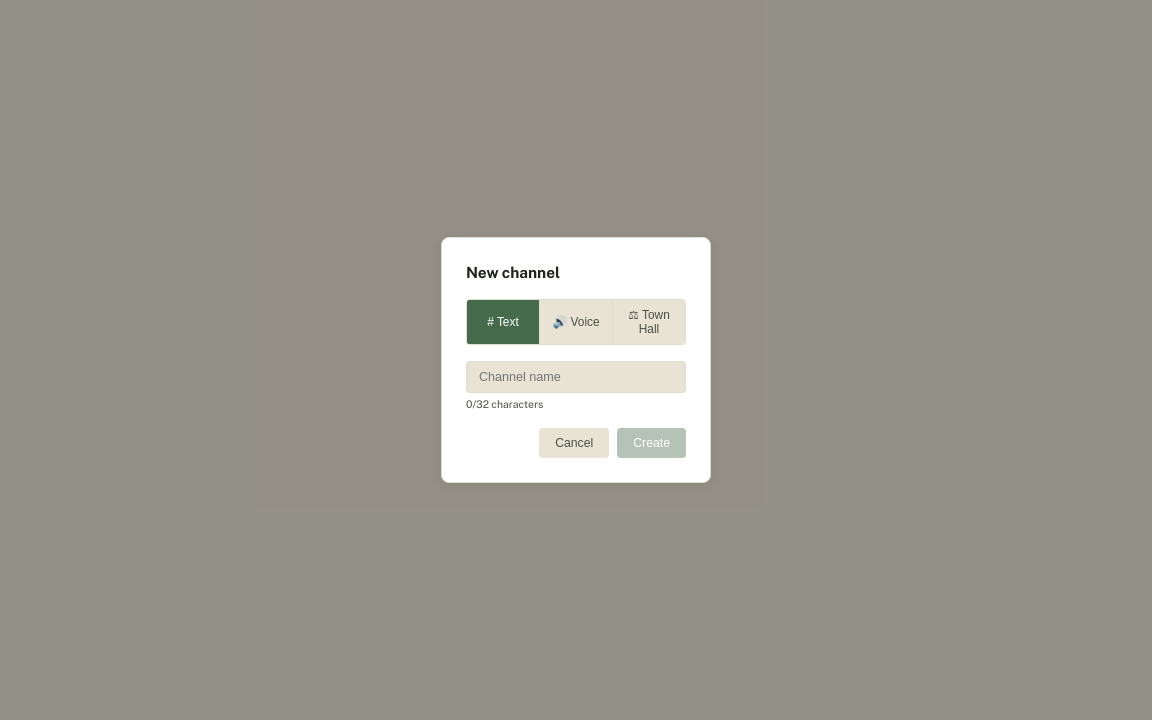
CreateChannelDialog › Create button enabled when name has content
Type "general" into the field with placeholder "Channel name" at (576, 377), box left=466, top=361, right=686, bottom=393
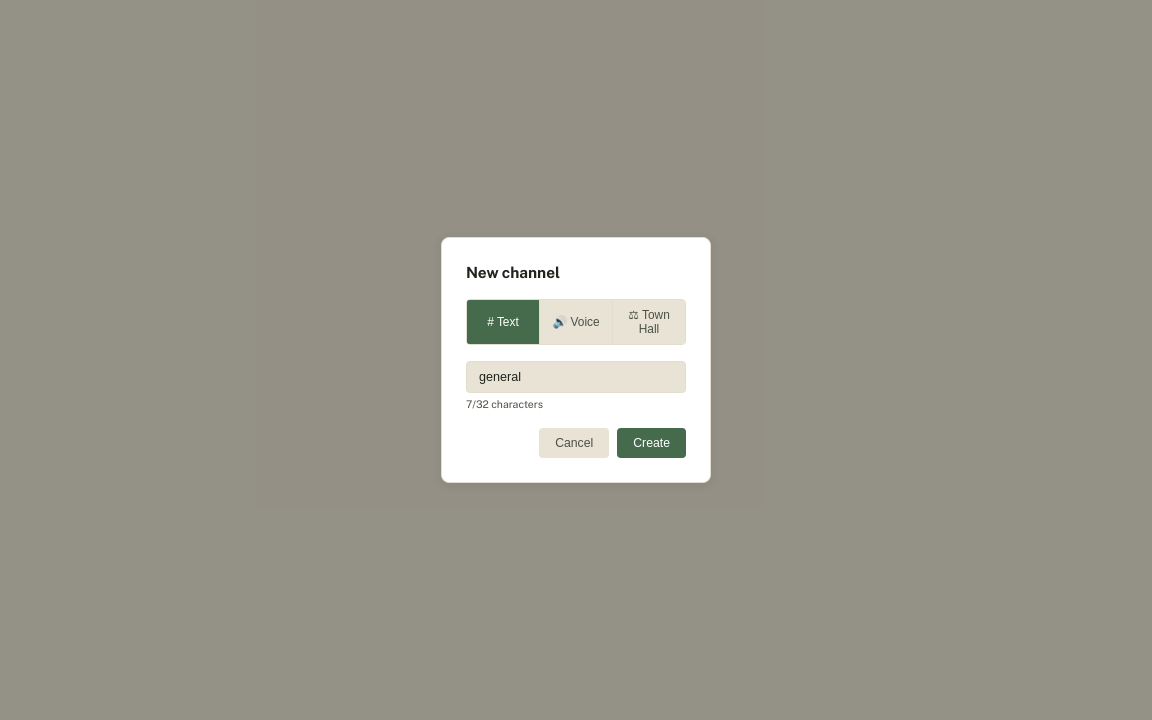
expect the button "Create" is enabled: met, box left=617, top=428, right=686, bottom=458
